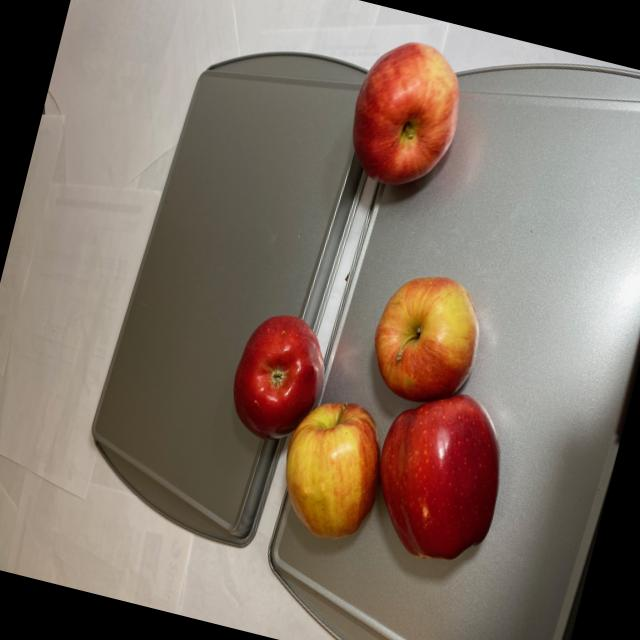apple: (200, 229, 545, 582), (336, 31, 476, 205)
